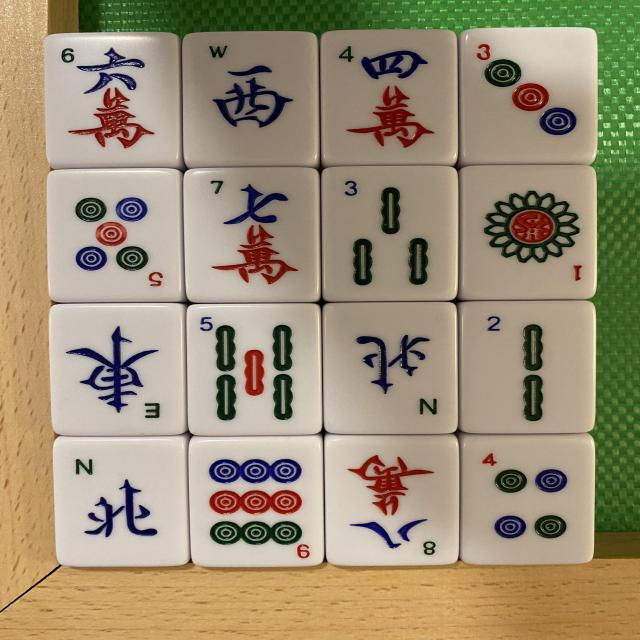hwe: (55, 305, 187, 435)
hwn: (327, 302, 458, 430), (58, 441, 188, 566)
hww: (186, 34, 322, 169)
sb2: (460, 301, 593, 434)
sb3: (322, 167, 457, 300)
sb5: (190, 307, 323, 435)
sc4: (319, 29, 457, 164)
sc6: (47, 33, 182, 167)
sc7: (186, 169, 320, 303)
sc8: (330, 437, 460, 567)
sd1: (463, 168, 596, 304)
sd3: (462, 28, 598, 162)
sd4: (466, 433, 596, 561)
sd5: (53, 172, 185, 305)
sd9: (192, 437, 324, 563)
